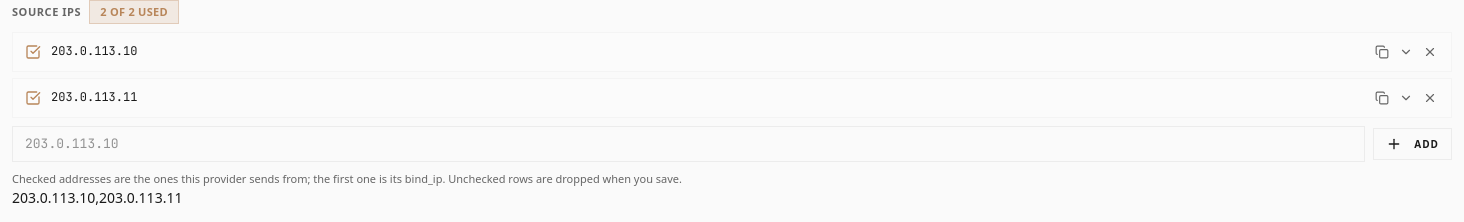
IpListEditor › removes an address outright
The width and height of the screenshot is (1464, 222).
Click the button named "Remove 203.0.113.11".
click(1430, 98)  # box 1419,87 -> 1441,109
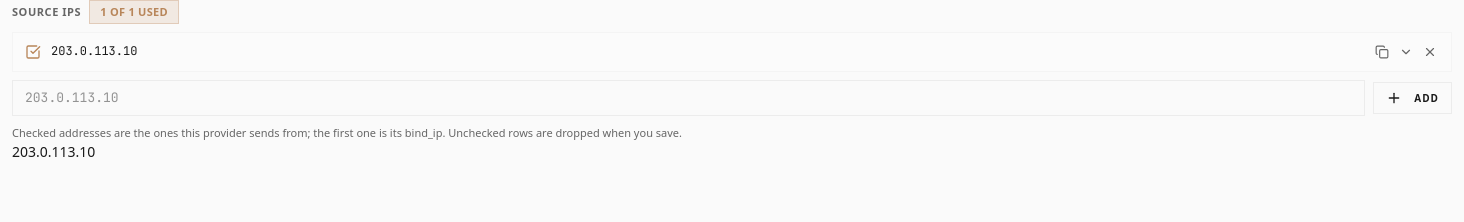
Check: the text "203.0.113.11" is gone
